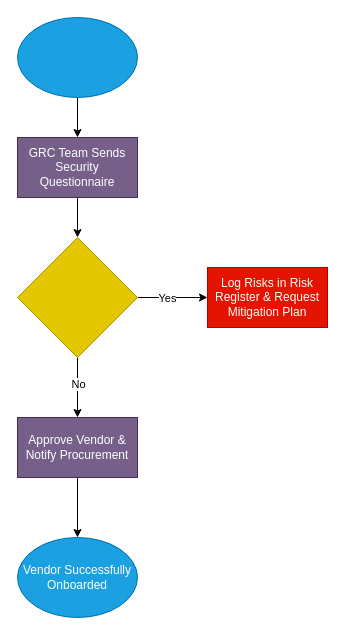
This 345x635 diagram has some shape labels left out. Each missing label, with the centre of its shape:
"Are Critical Risks Identified?" goes at point (77, 297).
"Business Requests New Cloud Vendor" goes at point (77, 57).
